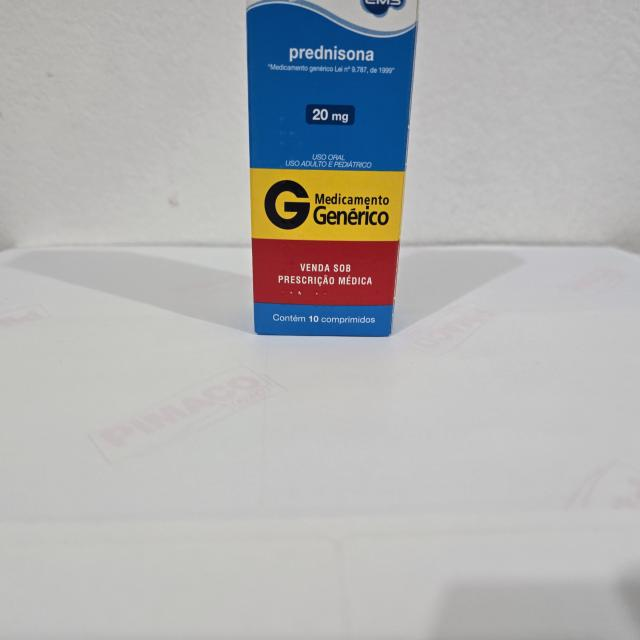prednisona: (236, 0, 423, 339)
